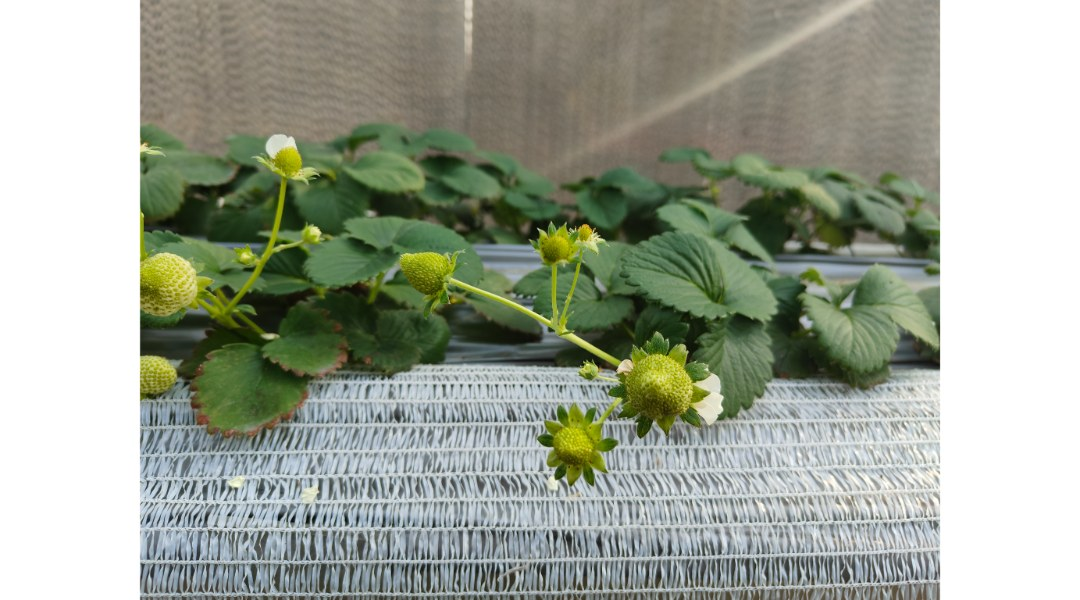berry: (613, 342, 707, 447), (535, 404, 606, 499), (121, 238, 200, 317), (379, 244, 468, 300), (128, 350, 184, 414), (520, 211, 572, 276), (571, 223, 606, 257), (279, 146, 308, 184), (229, 244, 265, 272), (301, 215, 326, 241)
flower: (255, 134, 315, 184), (687, 364, 729, 426)
strain: (452, 285, 550, 321), (567, 334, 629, 366), (563, 259, 585, 319)
